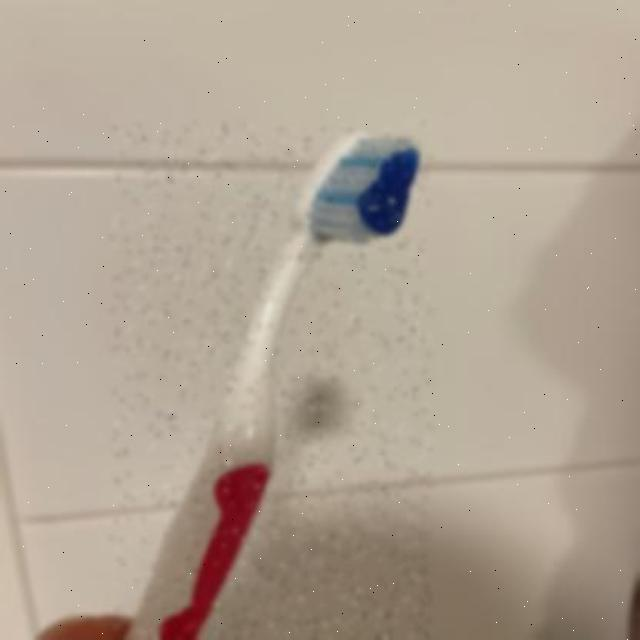toothbrush: (111, 124, 431, 640)
